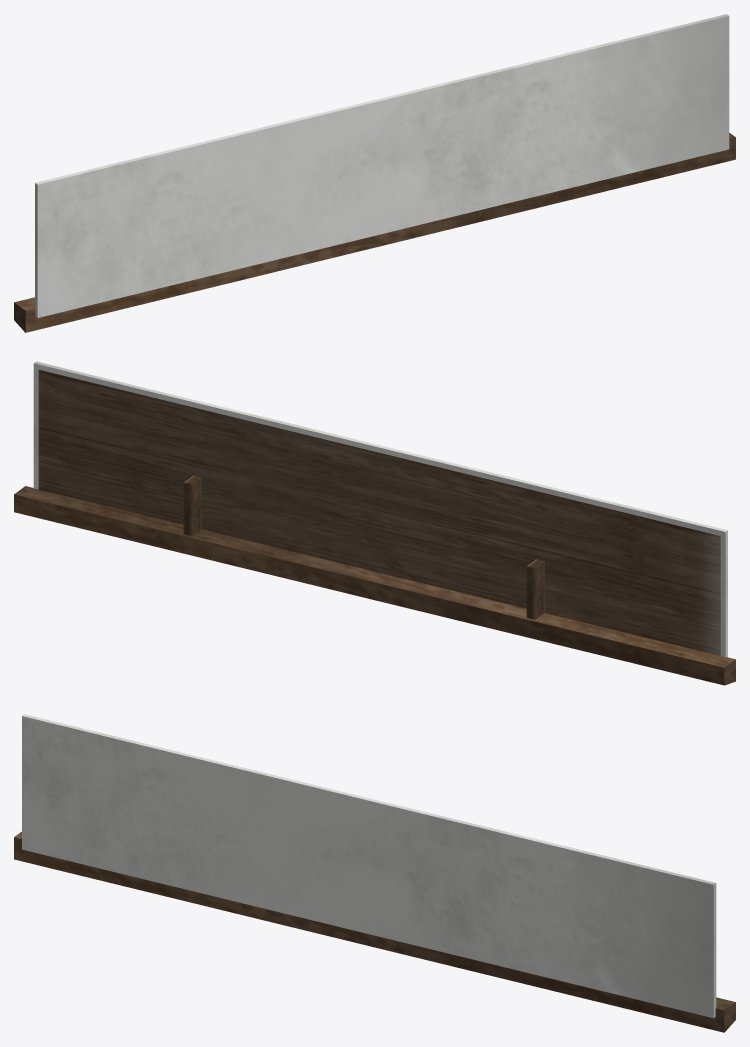
The picture shows the model from 3 angles, top to bottom: view 1: azimuth 30°, elevation 25°; view 2: azimuth 150°, elevation 25°; view 3: azimuth 330°, elevation 25°; orthographic projection.
Visible parts, largest first — view 1: ms_h02_k_a; view 2: ms_h02_k_a; view 3: ms_h02_k_a.
Part boxes in pixels (<box>): ms_h02_k_a: <box>14,14,735,332</box>; ms_h02_k_a: <box>14,361,735,685</box>; ms_h02_k_a: <box>14,714,735,1032</box>.
Size of the model in its own units: 557 by 110 by 18.45.
